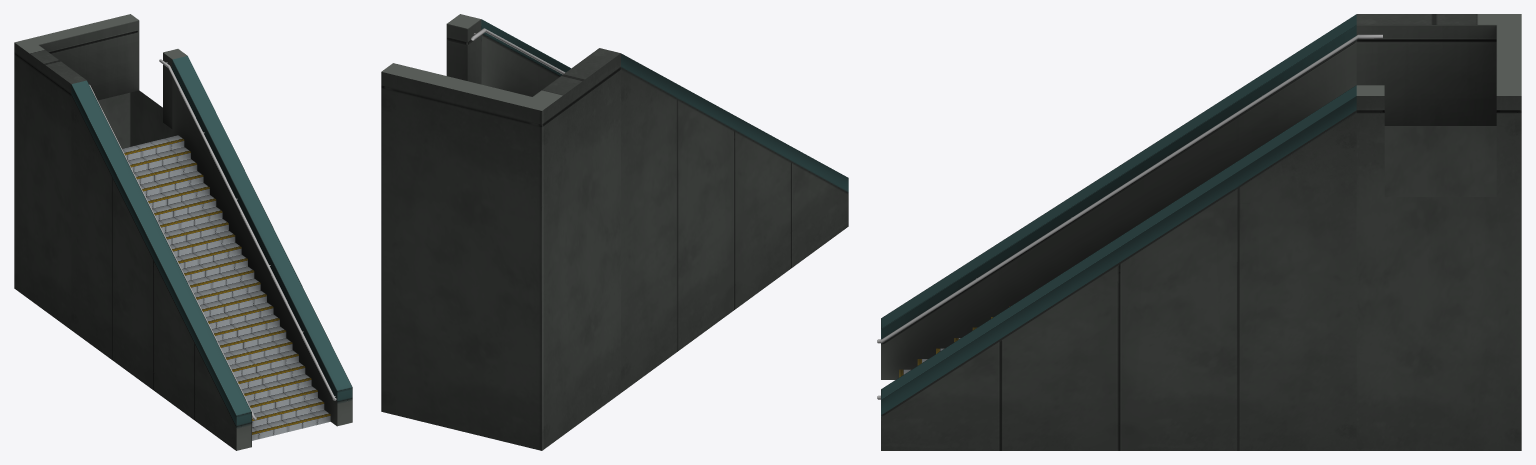
Rendered from stairs.fbx.
3 views of the same model, side by side, from view 1: azimuth 30°, elevation 25°; view 2: azimuth 150°, elevation 25°; view 3: azimuth 270°, elevation 25° (orthographic). The views are drawn at different scales.
Visible parts, largest first — view 1: polySurface208; view 2: polySurface208; view 3: polySurface208.
Boxes of the visible parts, x1,y1,x2,y2 form: polySurface208: [14, 14, 352, 450]; polySurface208: [381, 14, 848, 450]; polySurface208: [877, 14, 1521, 450].
Size of the model in its own units: 6.93 by 14 by 23.03.
